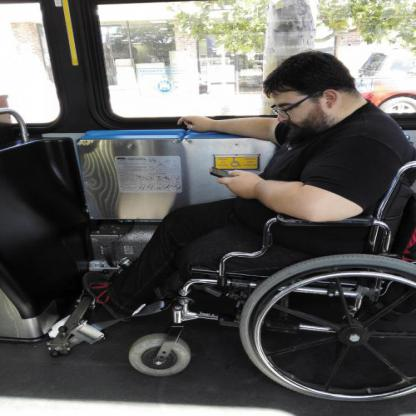wheelchair: (87, 49, 415, 405)
